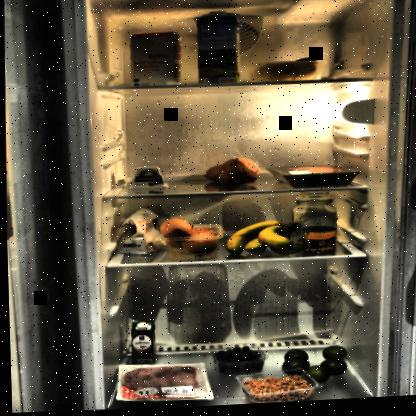banana: (221, 220, 308, 260)
beef: (263, 164, 361, 192)
blueberries: (206, 343, 267, 379)
corn: (300, 228, 334, 259)
heavy_cream: (128, 322, 154, 365)
lime: (278, 347, 345, 388)
milk: (193, 10, 243, 90)
onion: (157, 216, 224, 262)
potato: (252, 58, 330, 88)
shrimp: (237, 375, 315, 406)
sweet_potato: (201, 156, 265, 193)
